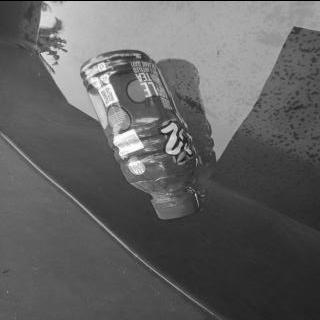bottle: (78, 48, 204, 220)
